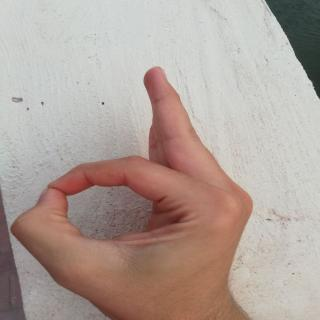Space: (13, 64, 259, 318)
